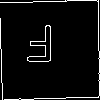F: (25, 24, 55, 72)
